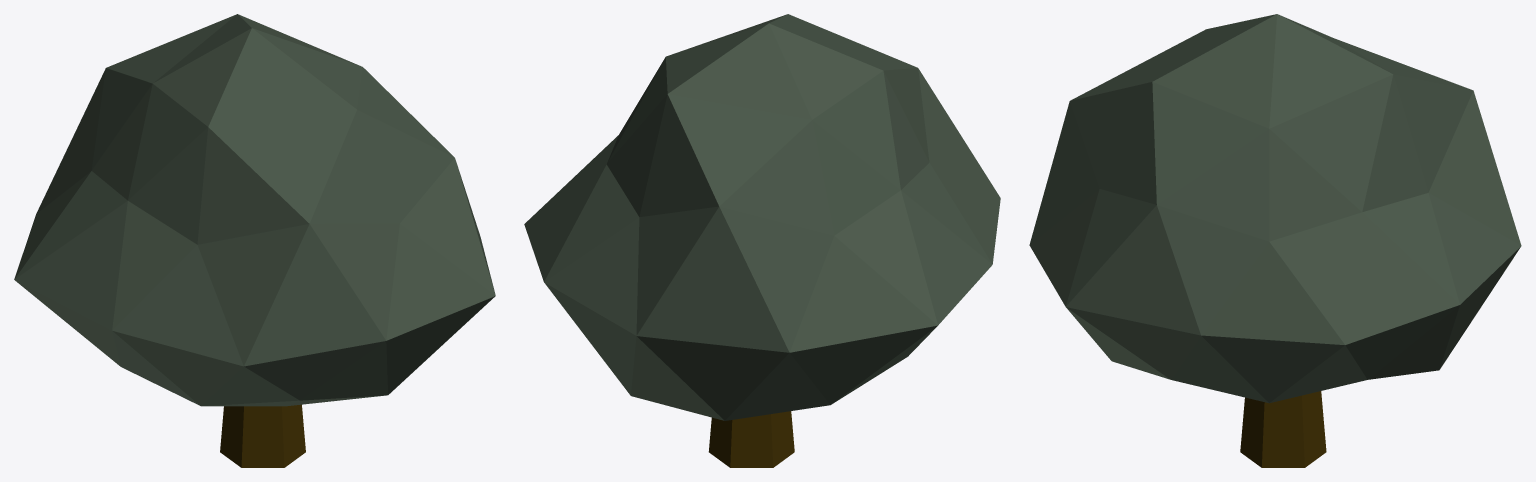
The model's file is ShrubE.fbx.
3 views of the same model, side by side, from view 1: azimuth 30°, elevation 25°; view 2: azimuth 150°, elevation 25°; view 3: azimuth 270°, elevation 25° (orthographic).
Parts seen in each view (by area): view 1: SketchUp.004; view 2: SketchUp.004; view 3: SketchUp.004.
Boxes of the visible parts, x1,y1,x2,y2 form: SketchUp.004: (14,14,495,467); SketchUp.004: (524,14,1000,467); SketchUp.004: (1029,14,1521,467).
Size of the model in its own units: 256 by 254 by 263.
